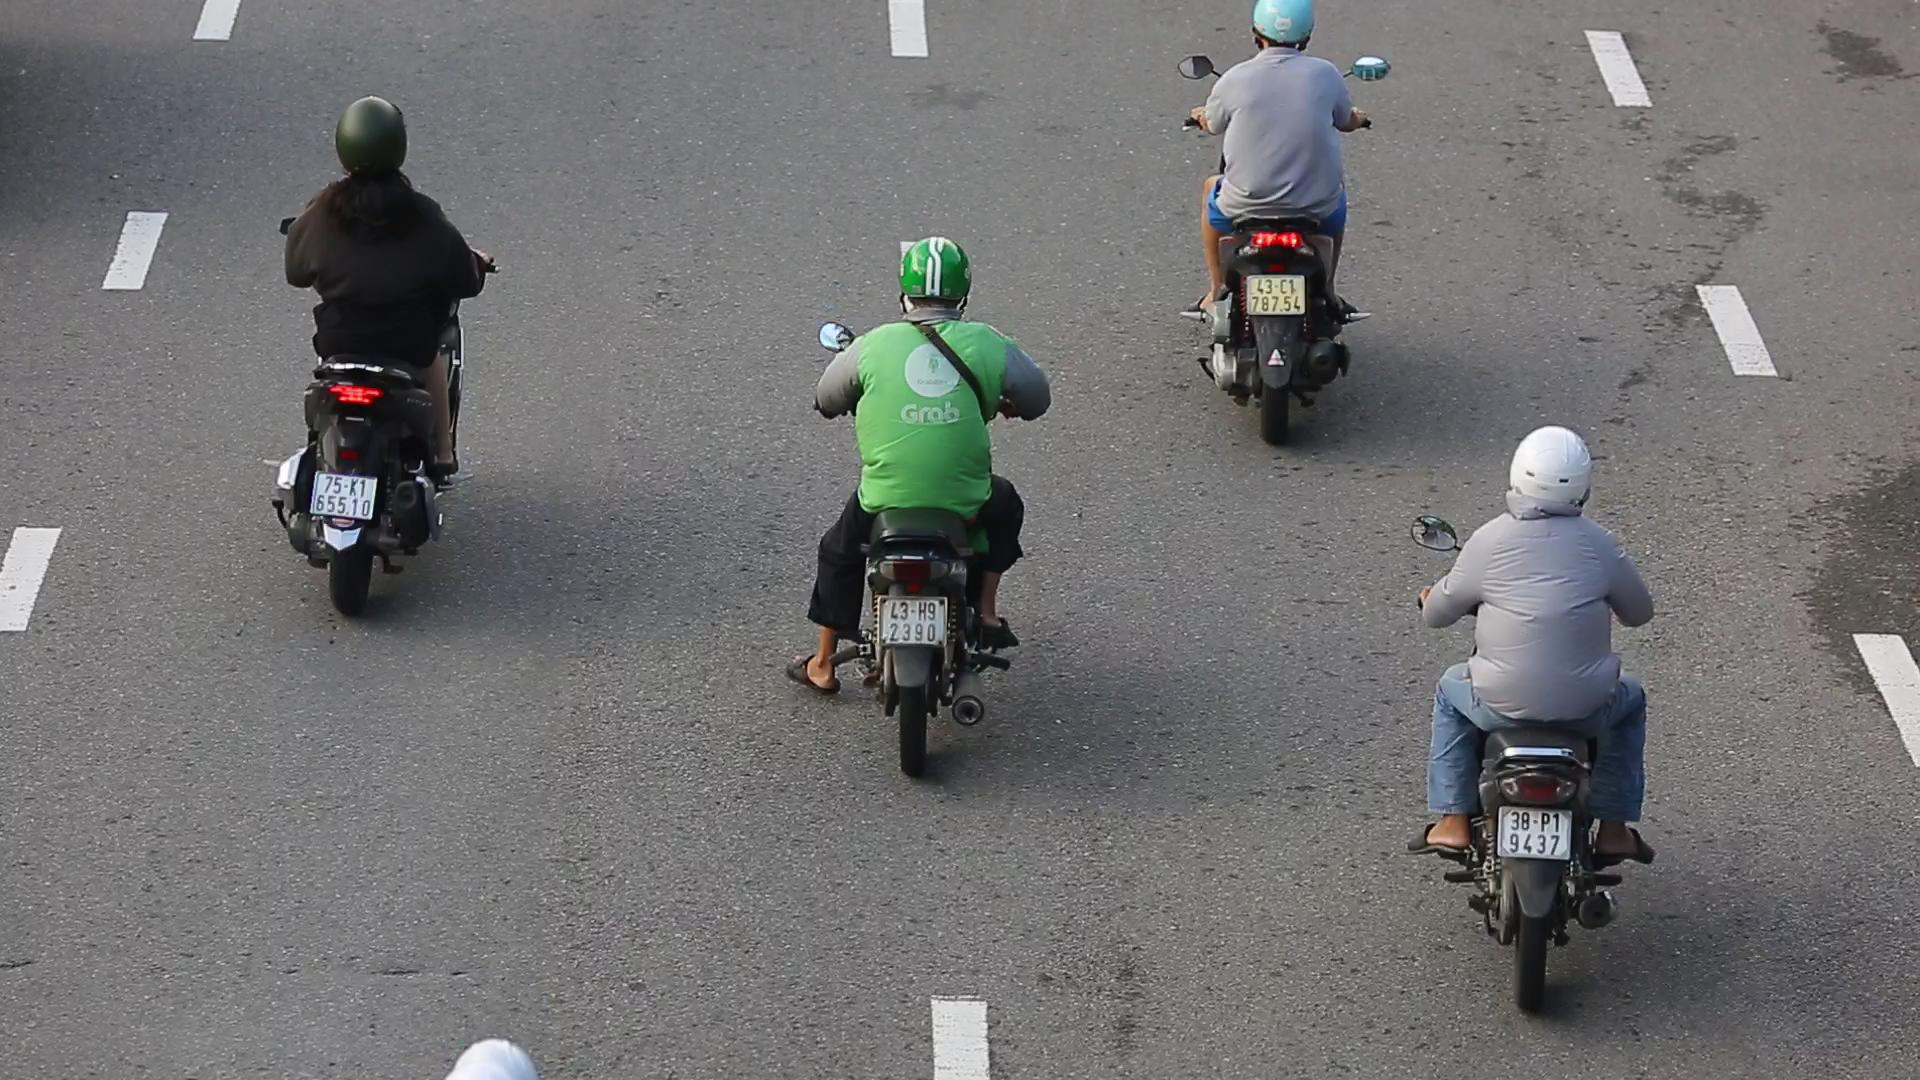motobike: (1389, 421, 1677, 1027), (774, 235, 1059, 781), (248, 90, 506, 622)
